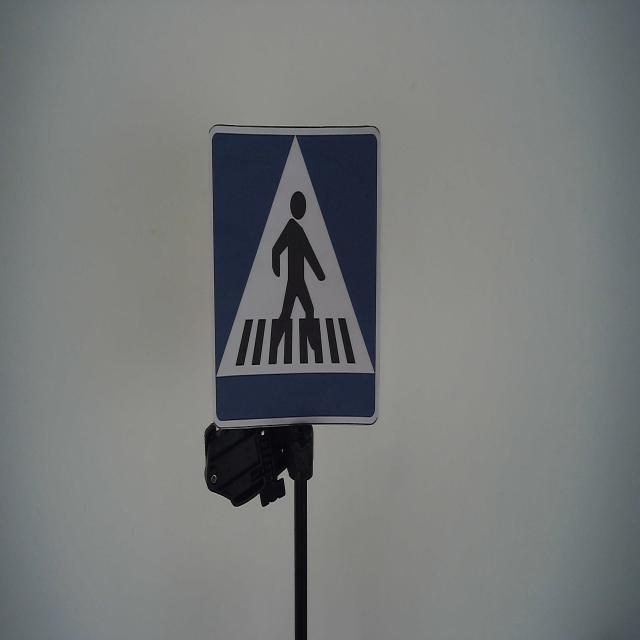crosswalk_sign: (206, 117, 383, 430)
